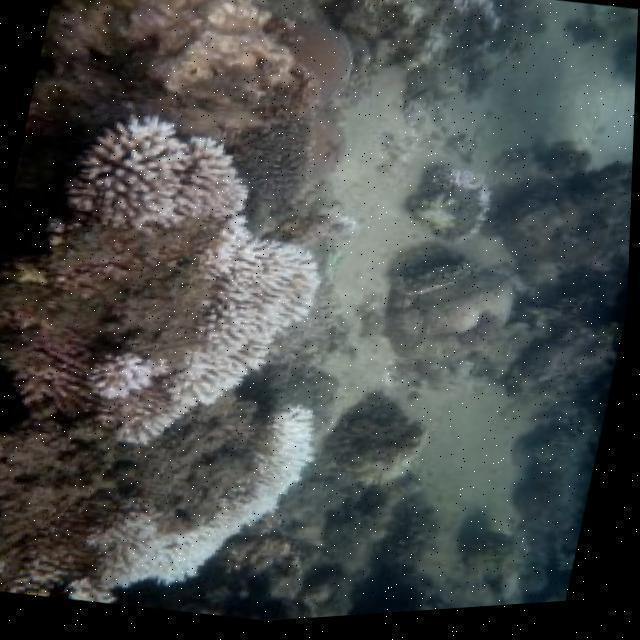Bleached Coral: (65, 200, 347, 479), (84, 363, 355, 635), (45, 119, 265, 261)
